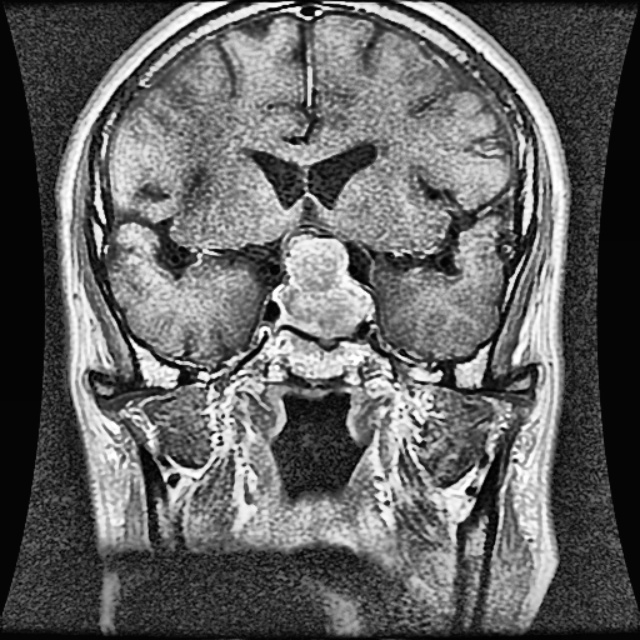Pituitary: (278, 237, 372, 335)
